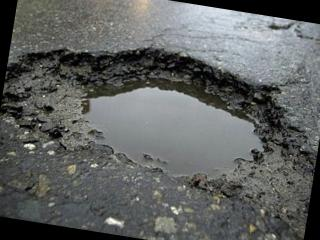pothole: (0, 20, 317, 226)
